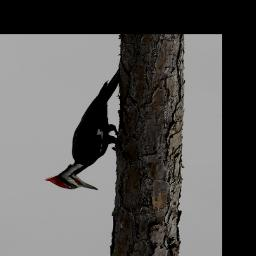Woodpecker: (44, 66, 119, 191)
